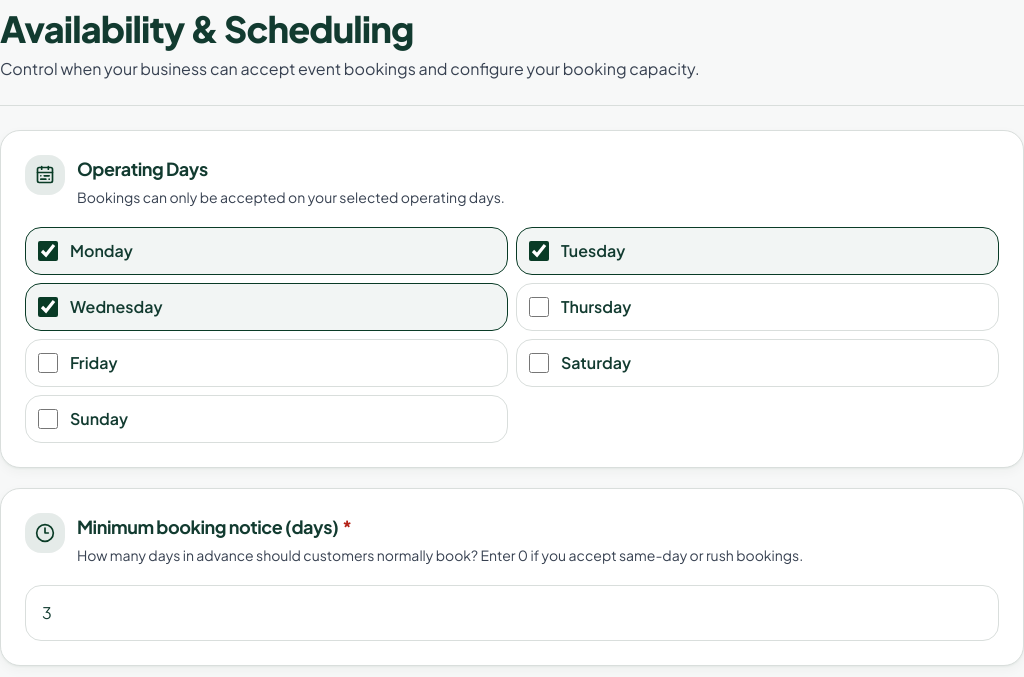
Test: provider availability workspace › saves canonical settings, refreshes data, and resets dirty state
Replace the text in the number field named "Minimum booking notice" with "7": [512, 613] box 25,585 -> 999,641
(page scrolled)
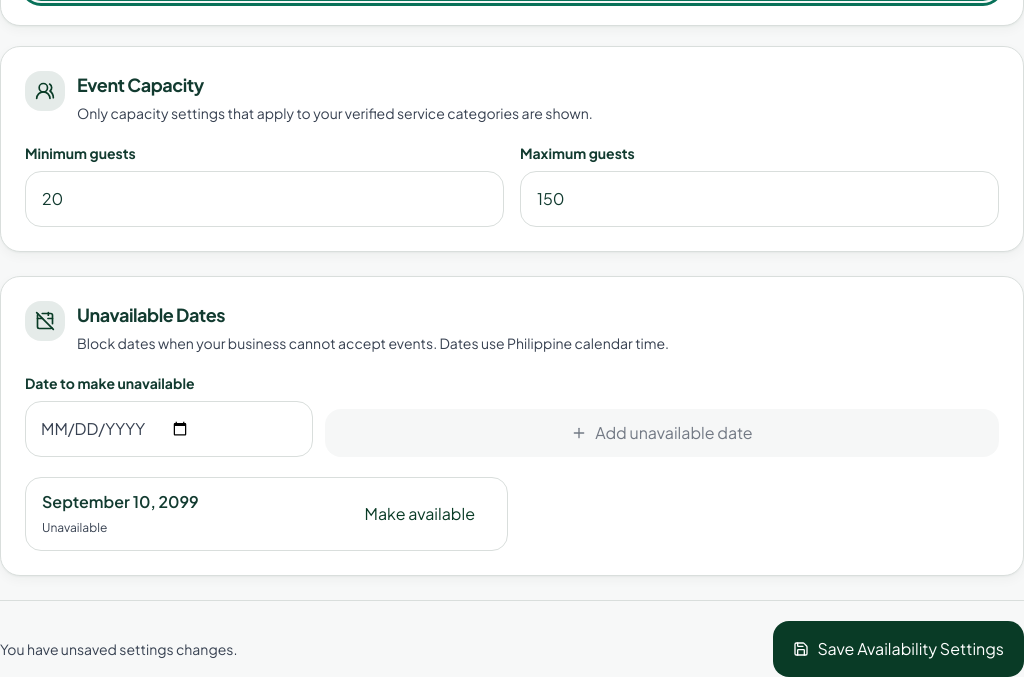
Click the button "Save Availability Settings": [899, 649] box 774,621 -> 1023,676
(page scrolled)
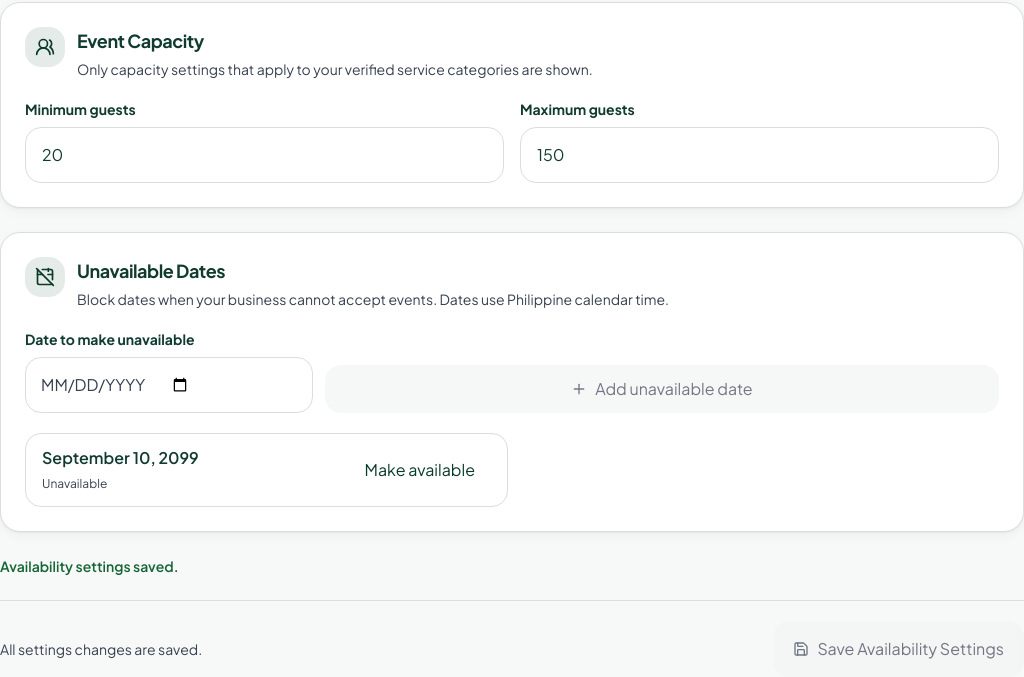
expect the button "Save Availability Settings" is disabled: met, box 774,621 -> 1023,676
expect the text "All settings changes are saved." is shown: met, box 0,639 -> 202,659
